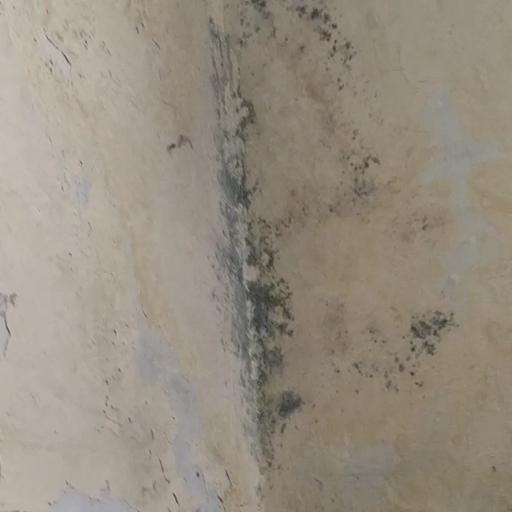algae: (151, 11, 464, 512)
